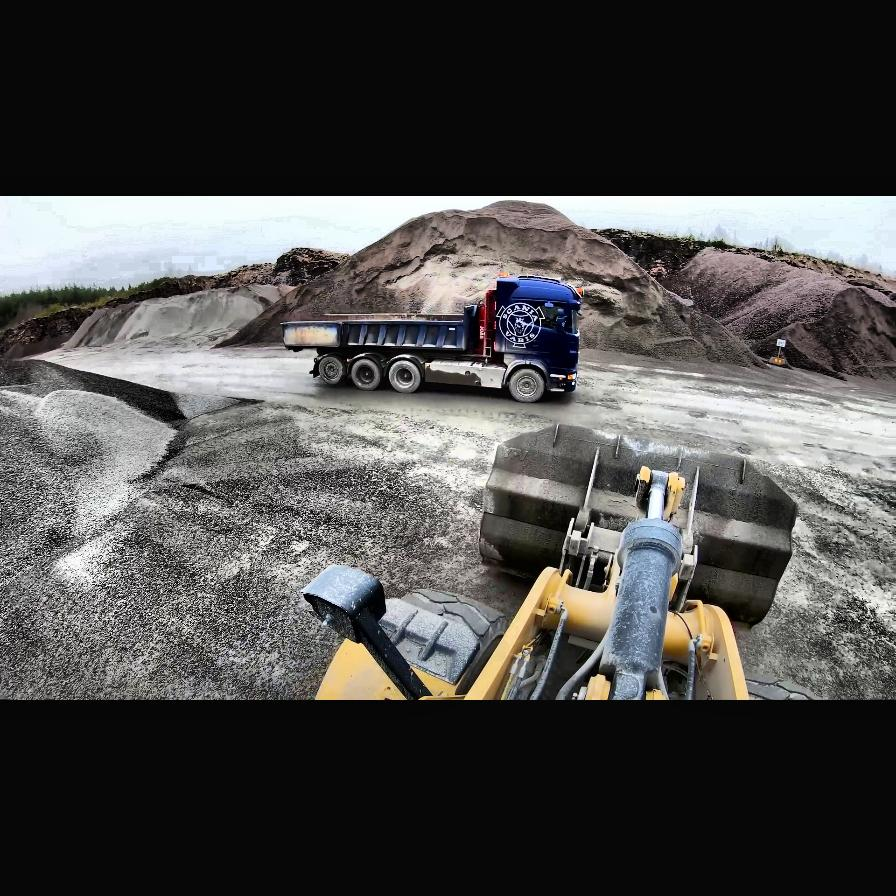anchor: (635, 466, 686, 522)
pile of gravel: (207, 200, 771, 376), (0, 358, 244, 432), (55, 284, 286, 352)
